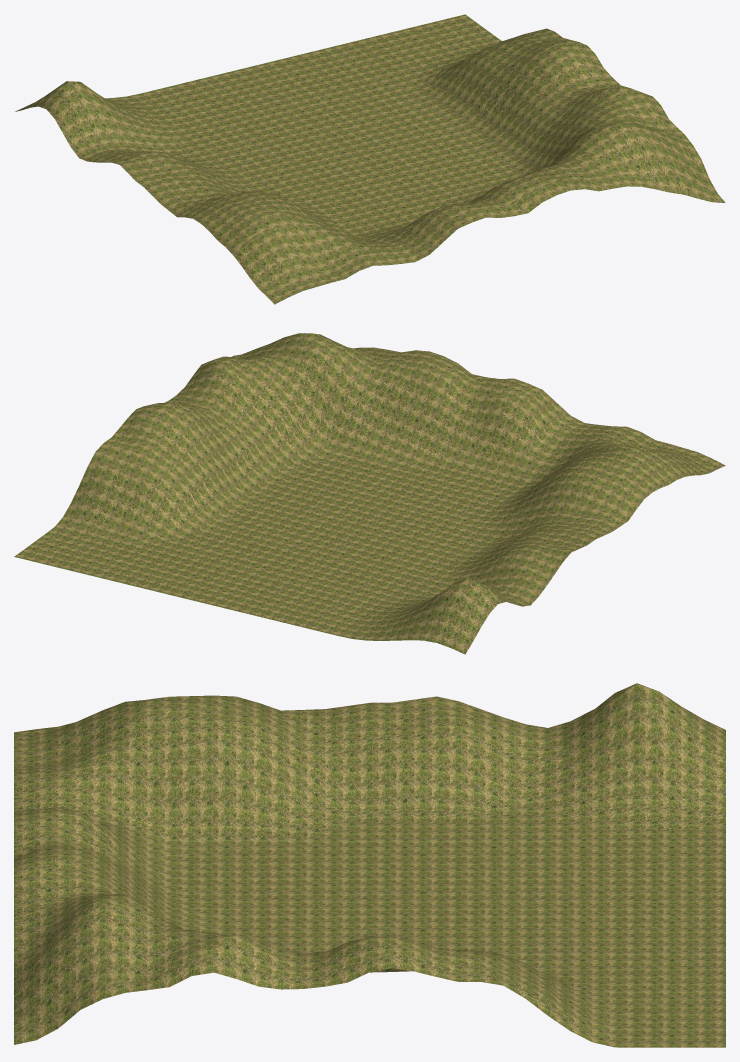
3 renders of one model, top to bottom at view 1: azimuth 30°, elevation 25°; view 2: azimuth 150°, elevation 25°; view 3: azimuth 270°, elevation 25°, orthographic. The views are drawn at different scales.
Parts seen in each view (by area): view 1: Mesh; view 2: Mesh; view 3: Mesh.
Part boxes in pixels (<box>): Mesh: <box>15,14,725,304</box>; Mesh: <box>14,333,725,654</box>; Mesh: <box>14,683,725,1047</box>.
Size of the model in its own units: 70 by 10.93 by 70.
1 material, 1 textured.
